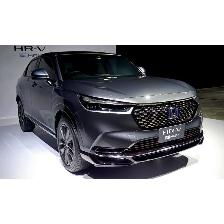NON-EV: (16, 52, 205, 175)
